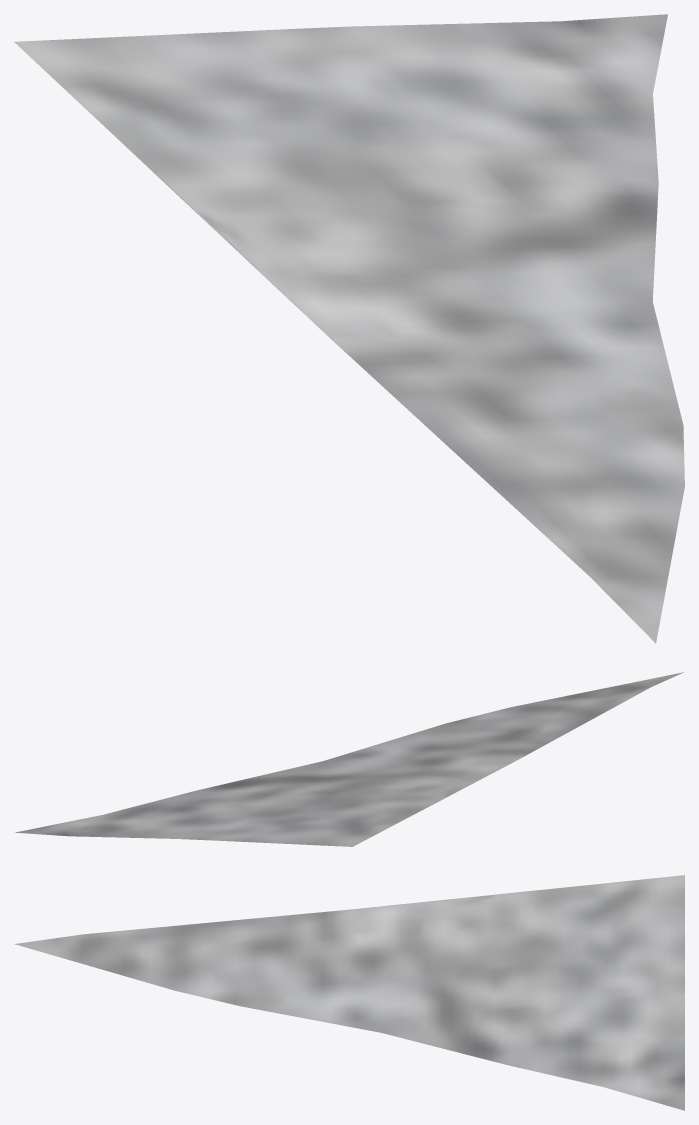
The picture shows the model from 3 angles, top to bottom: view 1: azimuth 30°, elevation 25°; view 2: azimuth 150°, elevation 25°; view 3: azimuth 270°, elevation 25°; orthographic projection. The views are drawn at different scales.
Size of the model in its own units: 0.2959 by 0.0571 by 0.503.
1 material, 1 textured.
